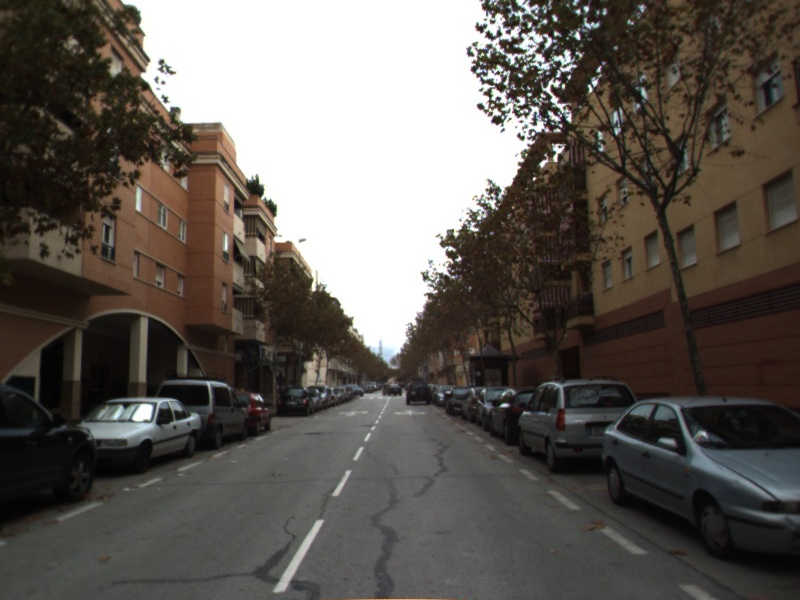STRAIGHT_LEFT_RIGHT: (391, 407, 428, 417)
